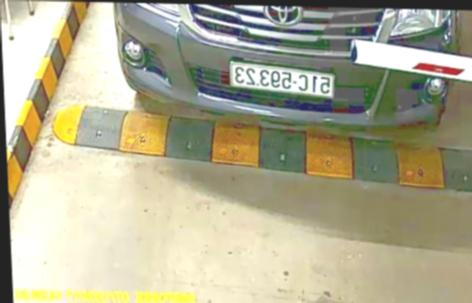License_Plate: (225, 63, 338, 98)
